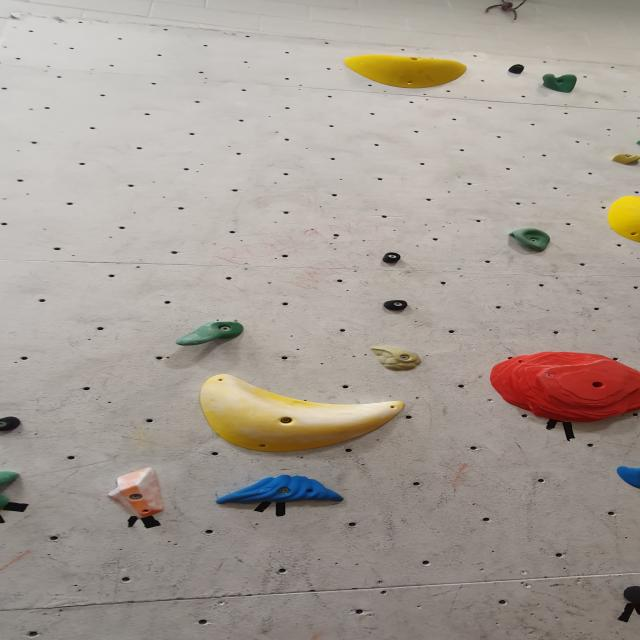Crimp: (488, 359, 638, 426), (214, 476, 349, 507), (369, 346, 425, 372), (616, 466, 640, 488)
Jug: (173, 321, 247, 348), (507, 229, 552, 254), (0, 472, 24, 512), (542, 75, 580, 95)
Pinch: (106, 468, 167, 520), (384, 298, 413, 311), (612, 152, 640, 165), (0, 417, 23, 432), (381, 252, 404, 263), (506, 65, 526, 75)
Sloper: (198, 372, 410, 455), (342, 55, 470, 90), (607, 196, 640, 245)
